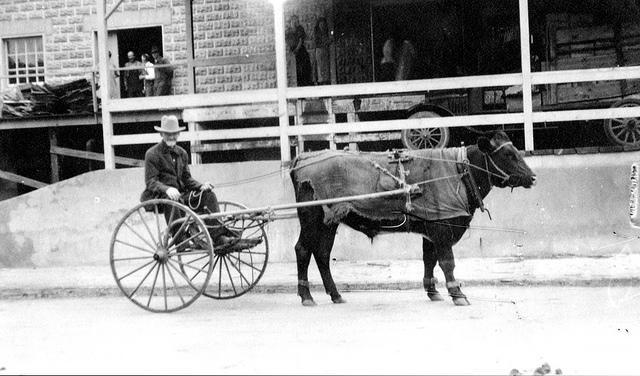car: (401, 84, 527, 148)
